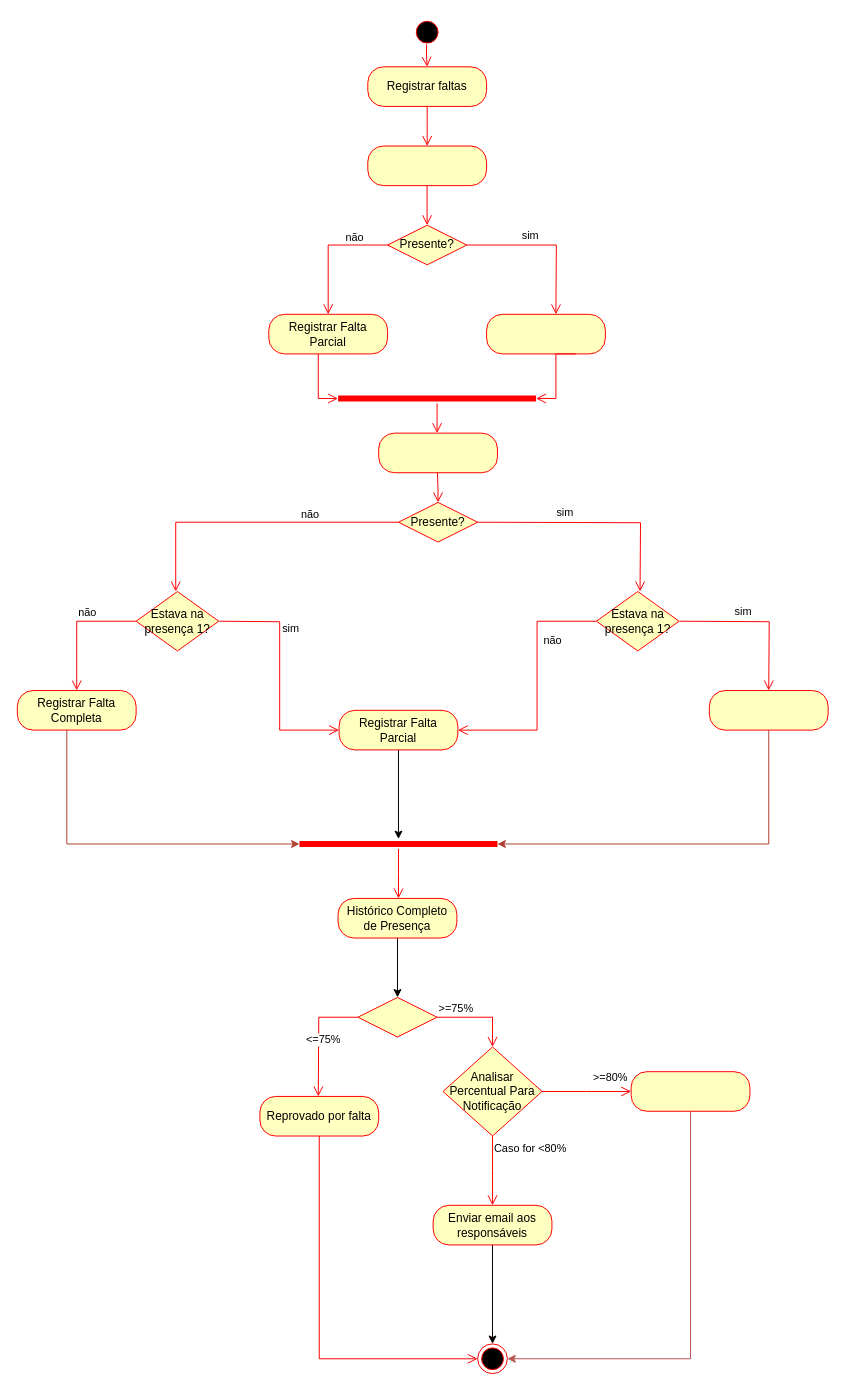
The diagram is 845 pixels wide and 1391 high, and some of its shapes have lost their labels. The shapes that lost their labels are listed below. From the top down, each one's box as (x1, y1, x2, y2) in pixels, then its label:
(367, 145, 487, 186): Chamada no inicio das aulas
(486, 313, 605, 354): Registrar Presença
(378, 432, 497, 473): Chamada após o intervalo
(708, 690, 828, 730): Registrar Presença Completa
(357, 996, 437, 1037): Verificar Percentual
(630, 1071, 750, 1111): Apenas manter o registro de presenças
